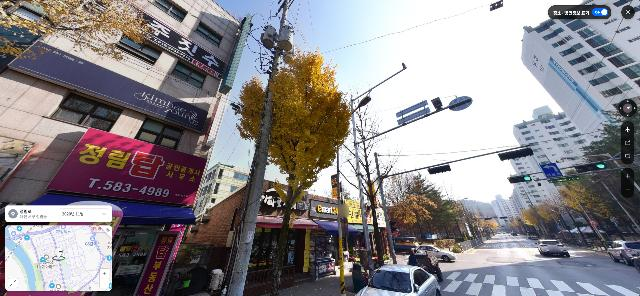ginkgo: (236, 46, 352, 296), (556, 177, 611, 250), (519, 207, 537, 238)
other: (338, 82, 402, 276), (1, 0, 160, 65), (409, 172, 459, 238), (382, 162, 416, 241), (394, 194, 440, 240), (454, 203, 475, 242), (475, 212, 493, 240)
